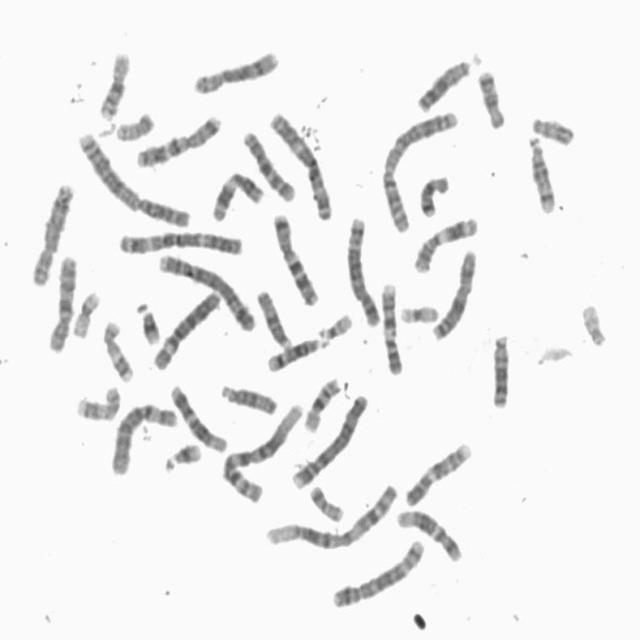A1: (259, 475, 400, 552), (216, 396, 306, 503)
A2: (72, 125, 193, 229), (377, 103, 461, 234)
A3: (264, 105, 335, 222), (112, 222, 246, 258)
B4: (152, 246, 258, 333), (286, 386, 371, 491)
B5: (326, 532, 427, 610), (341, 209, 382, 328)
C10: (237, 124, 298, 203), (42, 249, 79, 354)
C11: (407, 209, 480, 275), (206, 164, 265, 223)
C12: (164, 377, 230, 454), (391, 501, 464, 564)
C6: (148, 283, 222, 372), (105, 395, 179, 477)
C7: (130, 108, 223, 170), (267, 205, 321, 307)
C8: (25, 176, 76, 288), (188, 42, 282, 96)
C9: (400, 435, 474, 507), (376, 275, 404, 376)
D13: (411, 50, 474, 114), (486, 327, 512, 411)
D14: (522, 129, 558, 216), (261, 330, 331, 373)
D15: (252, 282, 294, 350), (215, 377, 279, 416)
E16: (94, 44, 132, 121), (299, 370, 343, 434)
E17: (98, 314, 136, 384), (70, 379, 122, 423)
E18: (472, 62, 508, 131), (414, 167, 452, 218)
F19: (67, 284, 102, 340), (394, 298, 440, 326)
F20: (304, 478, 346, 524), (110, 104, 156, 142)
G21: (158, 435, 204, 474), (131, 295, 163, 347)
G22: (575, 296, 609, 348), (312, 306, 354, 341)
X: (426, 243, 479, 342)
Y: (526, 109, 577, 147)
